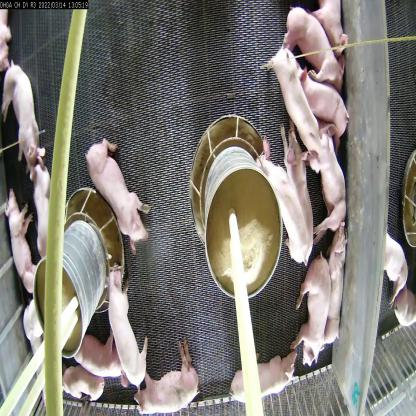Pig: (84, 136, 154, 254), (276, 0, 358, 89), (91, 280, 150, 393), (264, 132, 312, 266), (257, 44, 313, 158), (26, 150, 68, 278), (0, 40, 42, 163), (142, 340, 205, 415), (2, 194, 36, 316), (294, 271, 330, 385), (229, 352, 291, 415), (298, 65, 345, 133), (305, 125, 342, 204), (326, 221, 340, 354)
